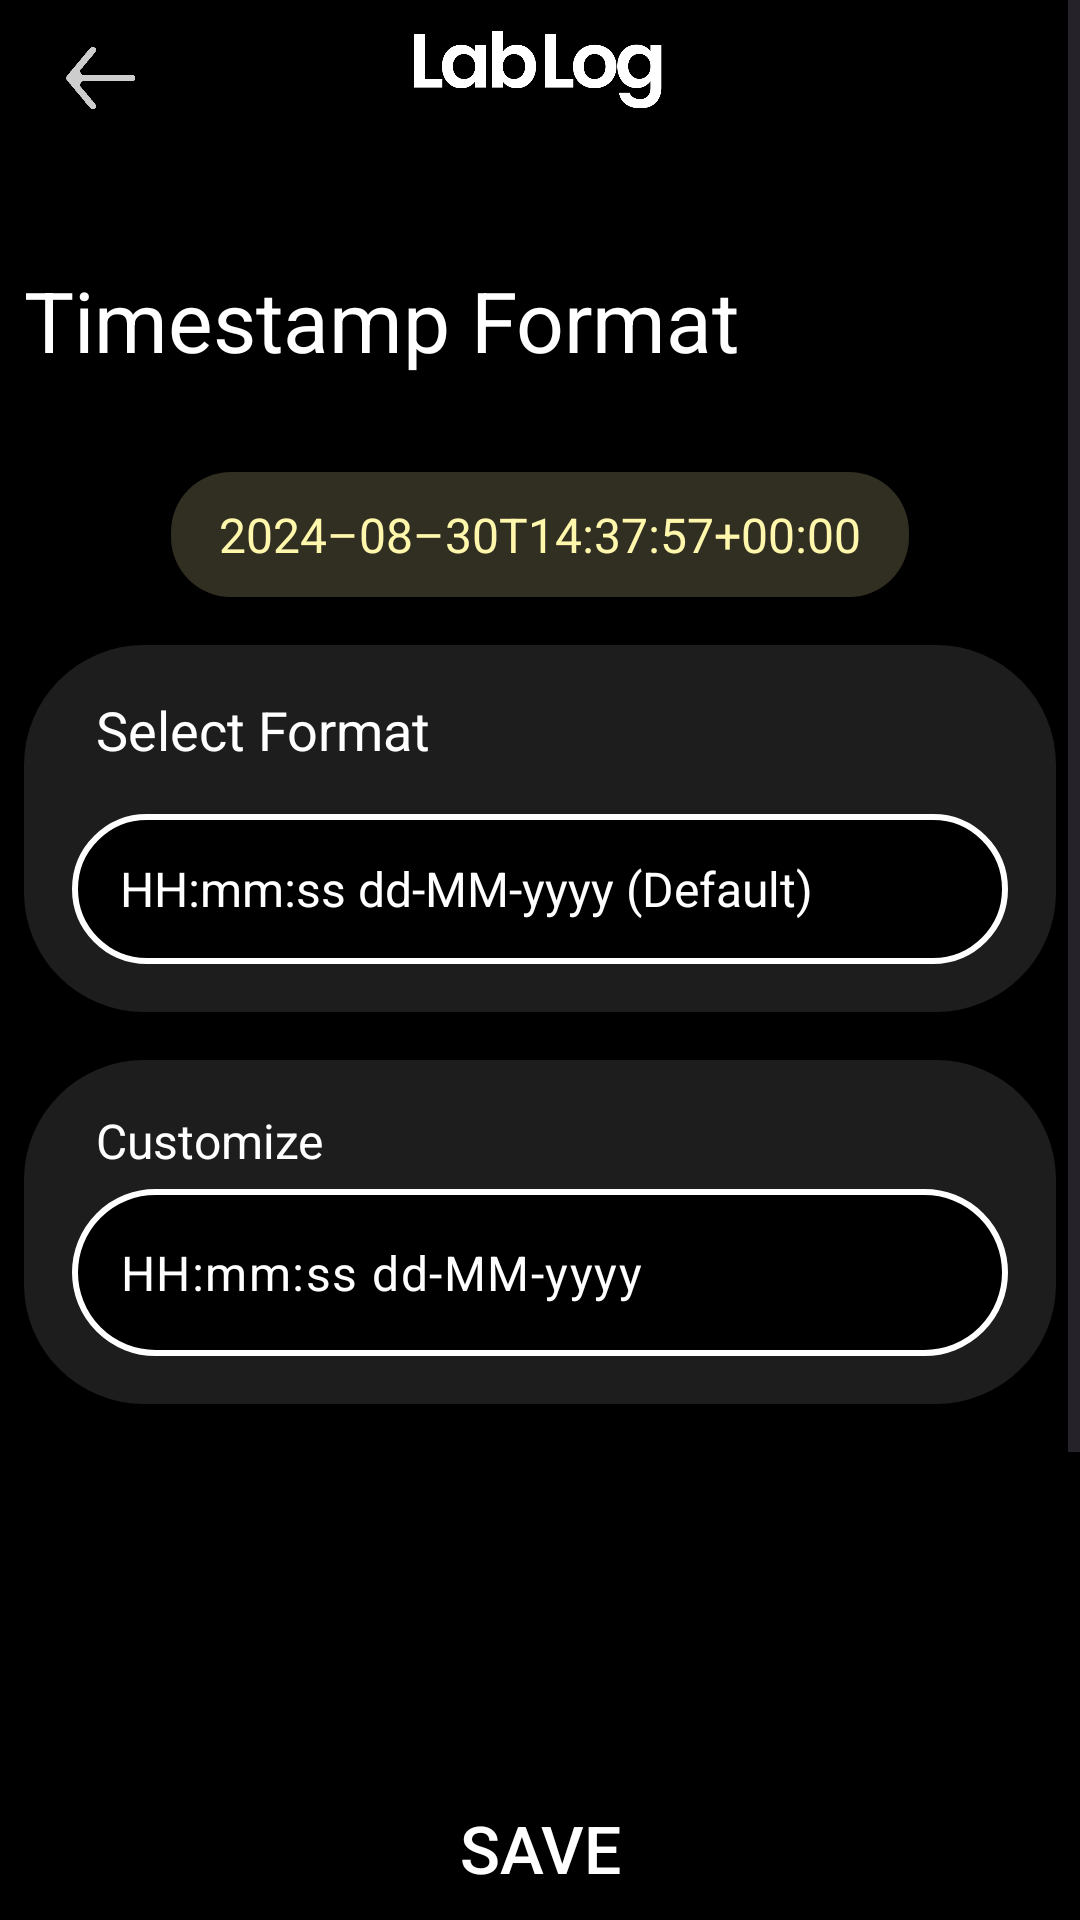

Named icons in this screenshot (1080w x 1920h) and their bounding boxes, region(x1, y1, x2, y2):
back icon: region(66, 47, 135, 109)
